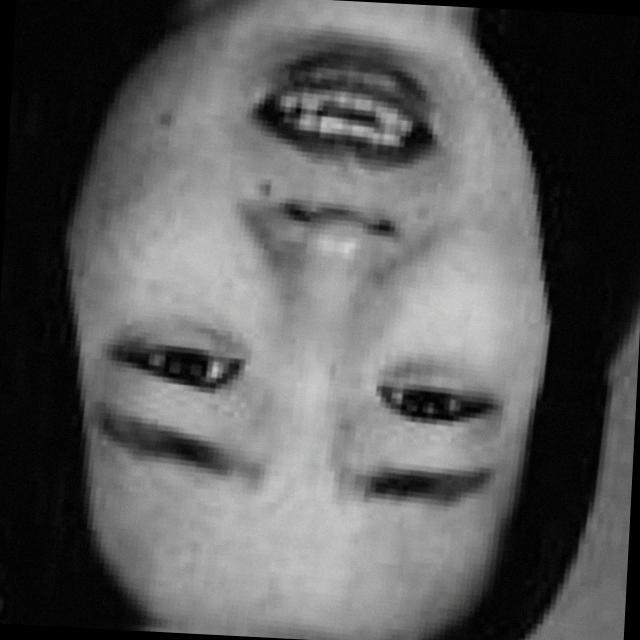fear: (82, 0, 571, 594)
